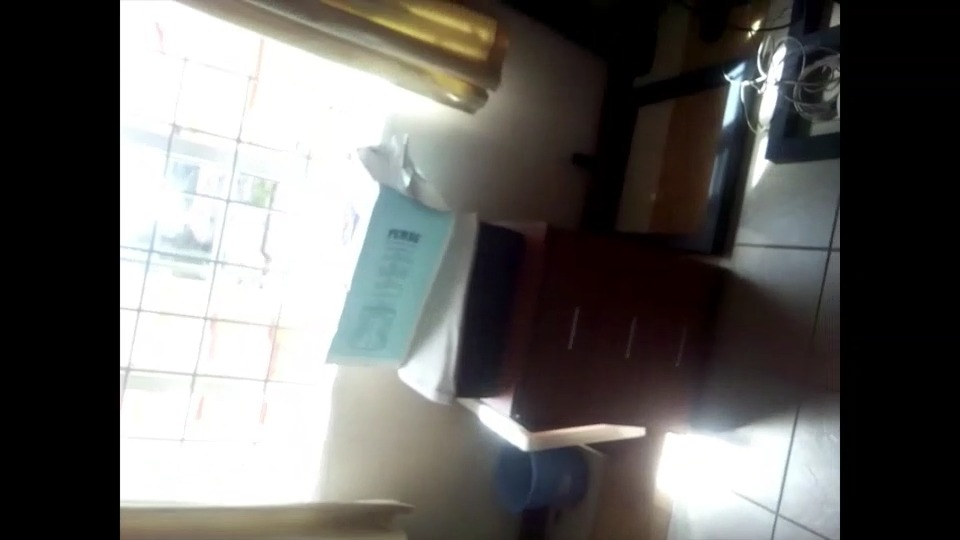wheat_flour_blue_label: (319, 140, 451, 372)
